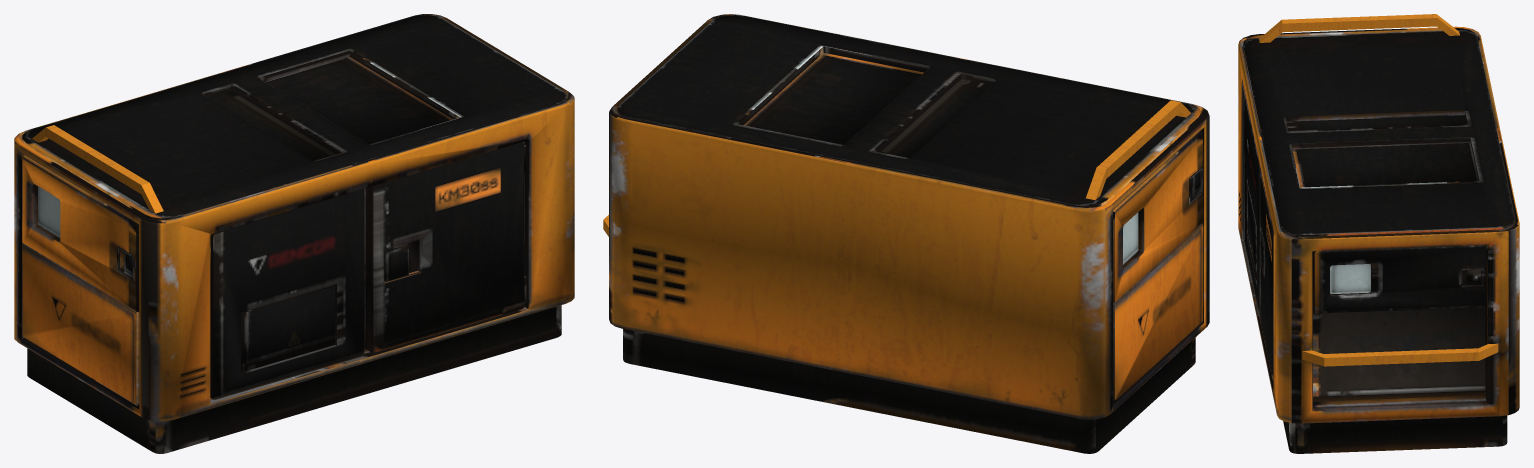
The model's file is genrator.fbx.
3 views of the same model, side by side, from view 1: azimuth 30°, elevation 25°; view 2: azimuth 150°, elevation 25°; view 3: azimuth 270°, elevation 25° (orthographic). The views are drawn at different scales.
Parts seen in each view (by area): view 1: GENERATOR001; view 2: GENERATOR001; view 3: GENERATOR001.
Boxes of the visible parts, x1=… form: GENERATOR001: x1=14, y1=14, x2=574, y2=453; GENERATOR001: x1=603, y1=14, x2=1209, y2=453; GENERATOR001: x1=1238, y1=14, x2=1519, y2=453.
Bounding box in the file's own units: 87.65 × 44.68 × 47.5.
